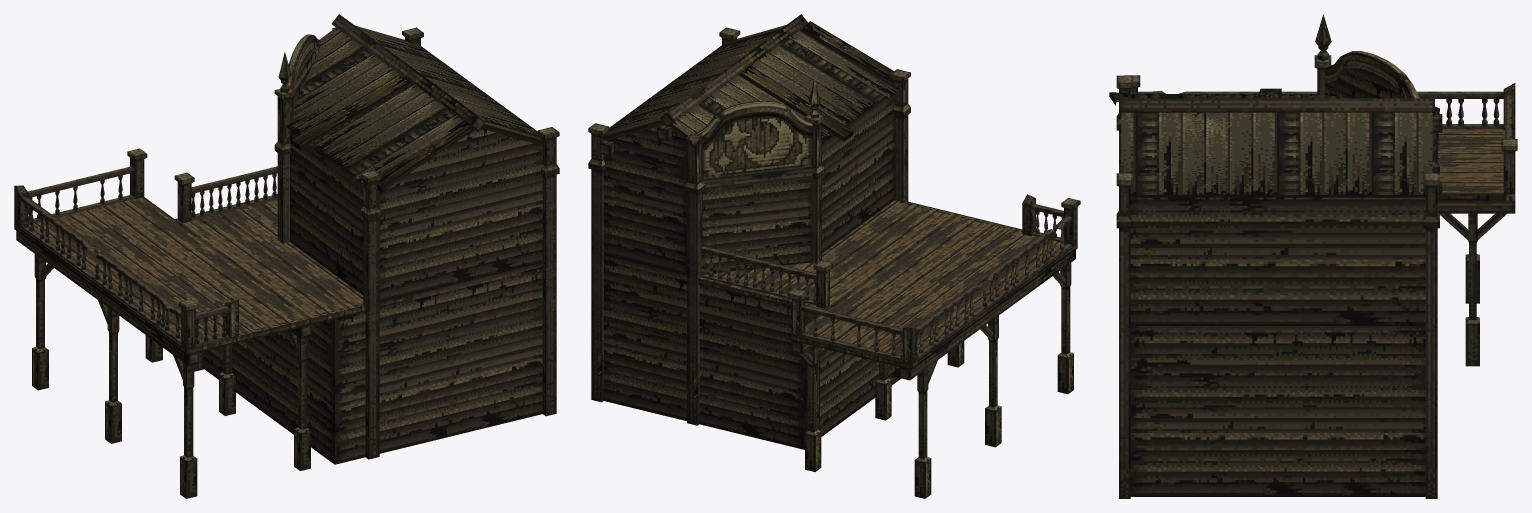
File: EnvBdgMD_Wilderness_A_Outdoor_Shop_Inn_Broken.FBX
3 views of the same model, side by side, from view 1: azimuth 30°, elevation 25°; view 2: azimuth 150°, elevation 25°; view 3: azimuth 270°, elevation 25° (orthographic). The views are drawn at different scales.
Visible parts, largest first — view 1: EnvBdgMD_Wilderness_A_Outdoor_Shop_Inn_Broken; view 2: EnvBdgMD_Wilderness_A_Outdoor_Shop_Inn_Broken; view 3: EnvBdgMD_Wilderness_A_Outdoor_Shop_Inn_Broken.
Part boxes in pixels (x1=…): EnvBdgMD_Wilderness_A_Outdoor_Shop_Inn_Broken: x1=14, y1=14, x2=559, y2=498; EnvBdgMD_Wilderness_A_Outdoor_Shop_Inn_Broken: x1=588, y1=14, x2=1080, y2=498; EnvBdgMD_Wilderness_A_Outdoor_Shop_Inn_Broken: x1=1109, y1=14, x2=1517, y2=498.
Bounding box in the file's own units: 1025 × 900 × 866.
Materials: 1 (1 with a texture image).
